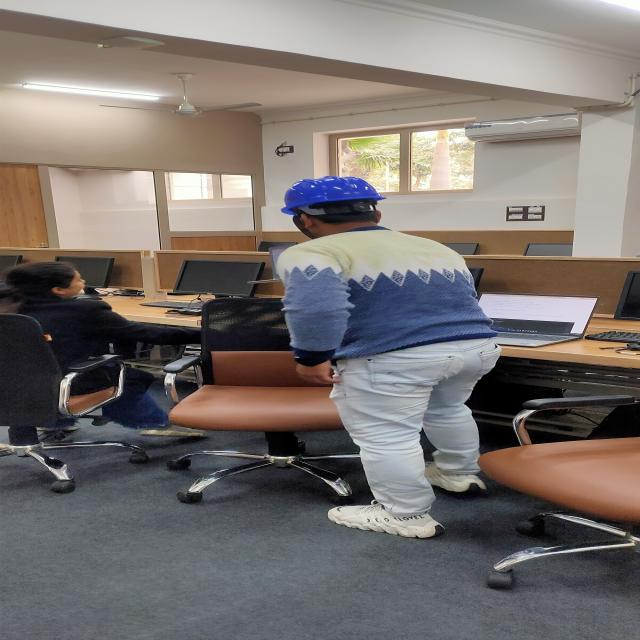no jacket: (277, 176, 505, 538)
unsafe: (7, 262, 199, 444)
